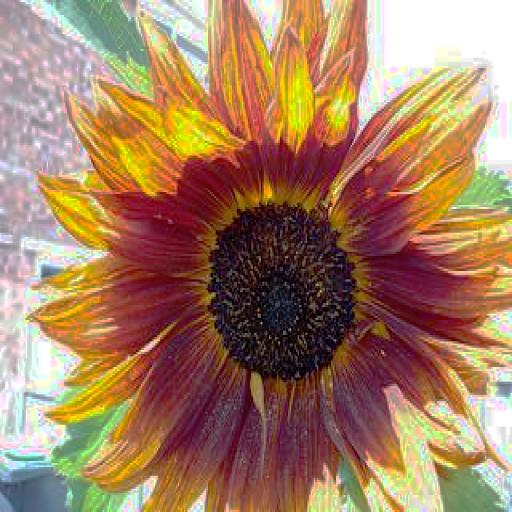sunflower: (42, 0, 512, 512)
